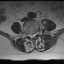CCS_stenosis: (31, 31, 34, 40)
LFS_normal: (36, 30, 38, 37)
LLS_normal: (34, 31, 36, 38)
RFS_normal: (27, 31, 30, 38)
RLS_normal: (30, 32, 31, 39)
